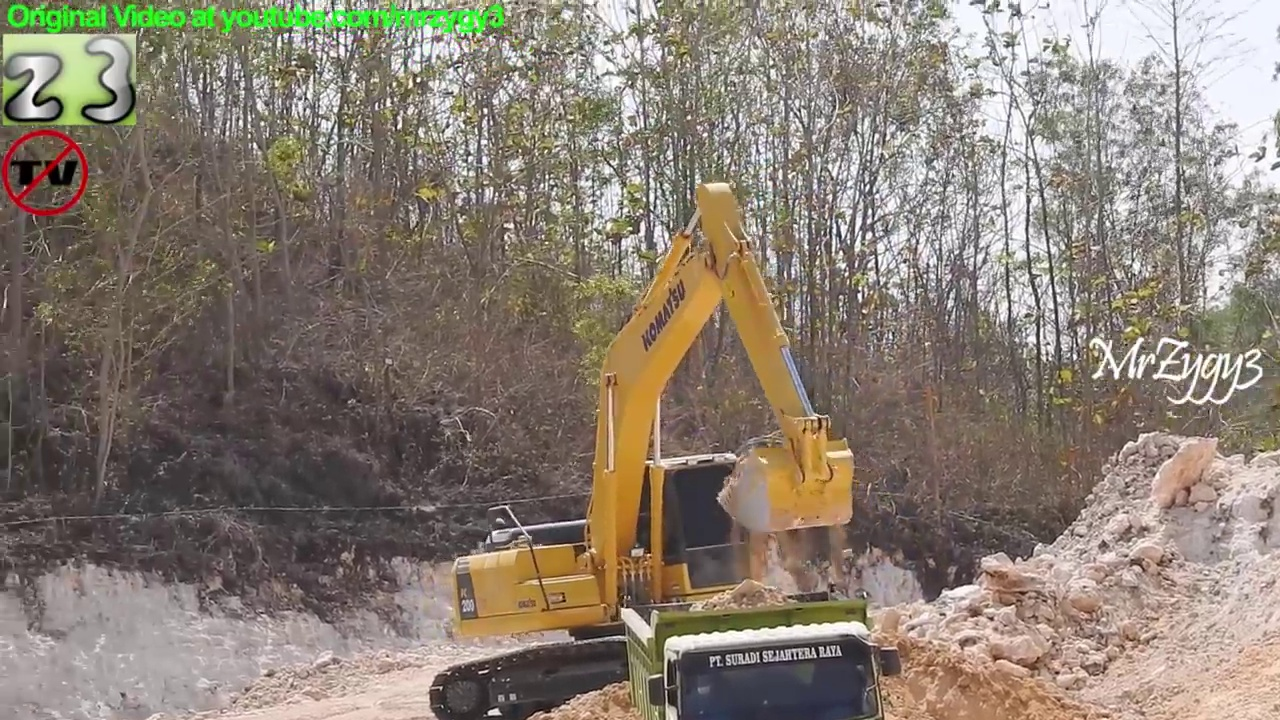excavator: (427, 178, 873, 720)
truck: (617, 579, 906, 720)
